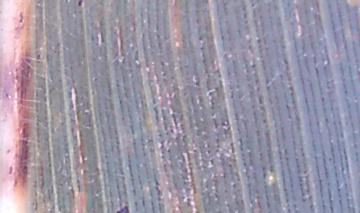tarspot: (114, 205, 131, 213), (77, 1, 85, 8)
